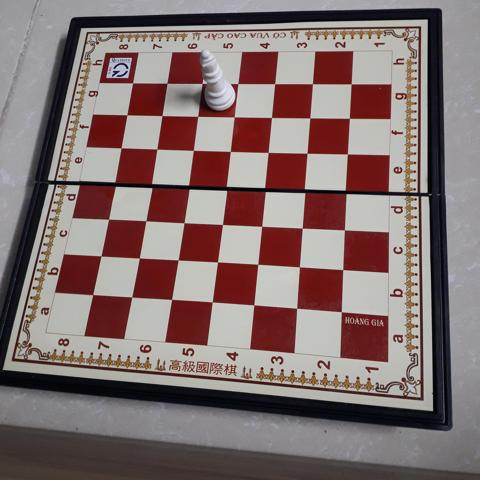xcorner: (100, 211, 115, 226), (258, 180, 273, 195), (113, 141, 128, 156), (227, 109, 242, 124), (343, 110, 358, 125), (125, 290, 139, 305), (205, 296, 220, 310), (290, 302, 305, 316), (93, 249, 108, 263), (251, 257, 265, 272), (293, 260, 308, 274), (337, 262, 351, 277), (338, 222, 353, 236), (143, 177, 158, 191), (223, 144, 238, 158), (301, 145, 316, 159), (86, 288, 100, 302), (165, 293, 179, 307), (247, 299, 261, 313), (335, 305, 349, 319), (131, 251, 145, 265), (170, 253, 184, 267), (210, 255, 224, 269), (138, 213, 152, 227), (176, 215, 190, 229), (215, 216, 229, 230), (255, 218, 269, 232), (296, 220, 310, 234), (107, 176, 121, 190), (181, 178, 195, 192), (219, 179, 233, 193), (299, 182, 313, 196), (340, 183, 354, 197), (149, 142, 163, 156), (186, 143, 200, 157), (262, 144, 276, 158), (342, 146, 356, 160), (120, 109, 134, 123), (155, 109, 169, 123), (191, 109, 205, 123), (265, 110, 279, 124), (304, 110, 318, 124), (126, 77, 140, 91), (160, 77, 174, 91), (195, 77, 209, 91), (231, 77, 245, 91), (268, 77, 282, 91), (306, 77, 320, 91), (345, 77, 359, 91)
